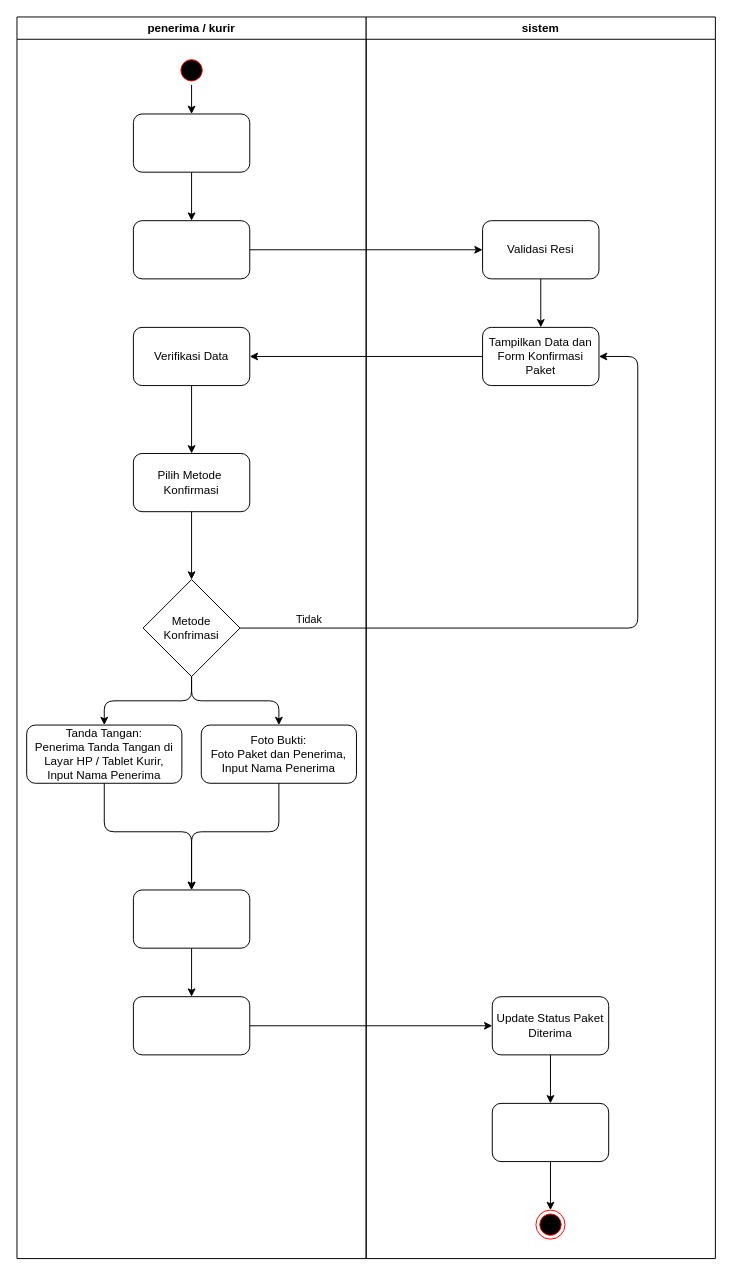
This 732x1276 diagram has some shape labels left out. Each missing label, with the centre of its shape:
Input Hubungan Penerima dengan Penerima Asli: point (191, 918)
Kirim Notifikasi ke Pengirim (SMS / Email): point (550, 1132)
Konfirmasi Submit: point (191, 1025)
Kurir Tiba di Lokasi Penerima: point (191, 142)
Scan Barcode Resi: point (191, 249)
